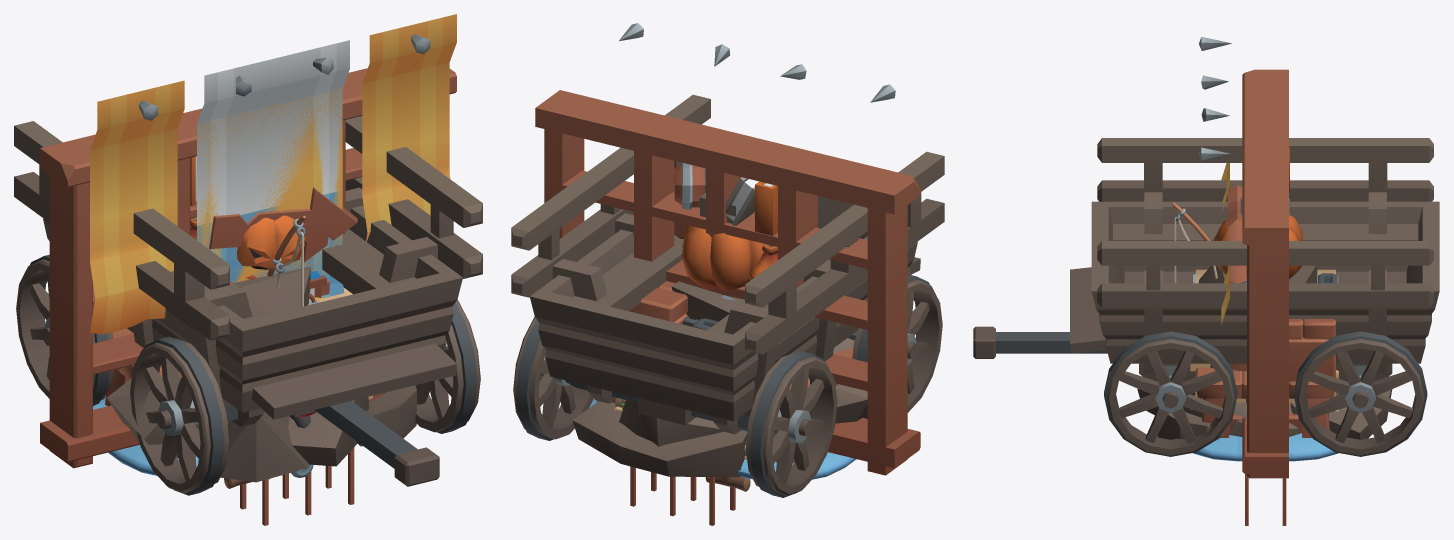
Rendered from town.glb.
3 renders of one model, left to right at view 1: azimuth 30°, elevation 25°; view 2: azimuth 150°, elevation 25°; view 3: azimuth 270°, elevation 25°, orthographic. The views are drawn at different scales.
Parts seen in each view (by area): view 1: wagon, banner_triple_yellow, banner_patternB_blue, bookcase_double, rocks, wagon_wheel_front_right, wagon_wheel_front_left, wagon_wheel_rear_right, sign_both, scarecrow, bookcase_single_decoratedB, building_docks_yellow (+3 smaller); view 2: wagon, bookcase_double, bookcase_single_decoratedB, rocks, wagon_wheel_rear_right, wagon_wheel_rear_left, wagon_wheel_front_right, scarecrow, Potionstation, building_docks_yellow, rug_oval_B, banner_triple_yellow (+1 smaller); view 3: wagon, bookcase_double, wagon_wheel_rear_left, wagon_wheel_front_left, Potionstation, rocks, rug_oval_B, sign_both, banner_triple_yellow, scarecrow, bookcase_single_decoratedB.
Part boxes in pixels (box(x1,y1,x2,y2)): wagon: box(14, 116, 482, 486); banner_triple_yellow: box(90, 14, 456, 334); banner_patternB_blue: box(197, 40, 349, 297); bookcase_double: box(40, 68, 456, 468); rocks: box(107, 266, 416, 482); wagon_wheel_front_right: box(130, 336, 229, 495); wagon_wheel_front_left: box(415, 299, 480, 433); wagon_wheel_rear_right: box(16, 254, 113, 405); sign_both: box(209, 187, 357, 295); scarecrow: box(237, 215, 304, 279); bookcase_single_decoratedB: box(177, 87, 352, 240); building_docks_yellow: box(240, 447, 354, 525); wagon: box(511, 94, 944, 434); bookcase_double: box(535, 90, 920, 475); bookcase_single_decoratedB: box(625, 113, 824, 287); rocks: box(572, 281, 867, 477); wagon_wheel_rear_right: box(745, 351, 837, 497); wagon_wheel_rear_left: box(513, 317, 593, 440); wagon_wheel_front_right: box(852, 274, 942, 412); scarecrow: box(681, 225, 763, 291); Potionstation: box(597, 281, 853, 462); building_docks_yellow: box(630, 466, 735, 525); rug_oval_B: box(589, 399, 856, 479); banner_triple_yellow: box(619, 23, 895, 102); wagon: box(973, 138, 1439, 381); bookcase_double: box(1242, 69, 1288, 478); wagon_wheel_rear_left: box(1294, 331, 1427, 456); wagon_wheel_front_left: box(1104, 331, 1237, 456); Potionstation: box(1195, 319, 1335, 437); rocks: box(1137, 265, 1392, 439); rug_oval_B: box(1193, 433, 1338, 461); sign_both: box(1228, 185, 1246, 283); banner_triple_yellow: box(1198, 37, 1232, 325); scarecrow: box(1213, 214, 1302, 278); bookcase_single_decoratedB: box(1240, 110, 1289, 215).
Bounding box in the file's own units: 4 × 4.73 × 4.99.
Materials: 9 (9 with a texture image).
